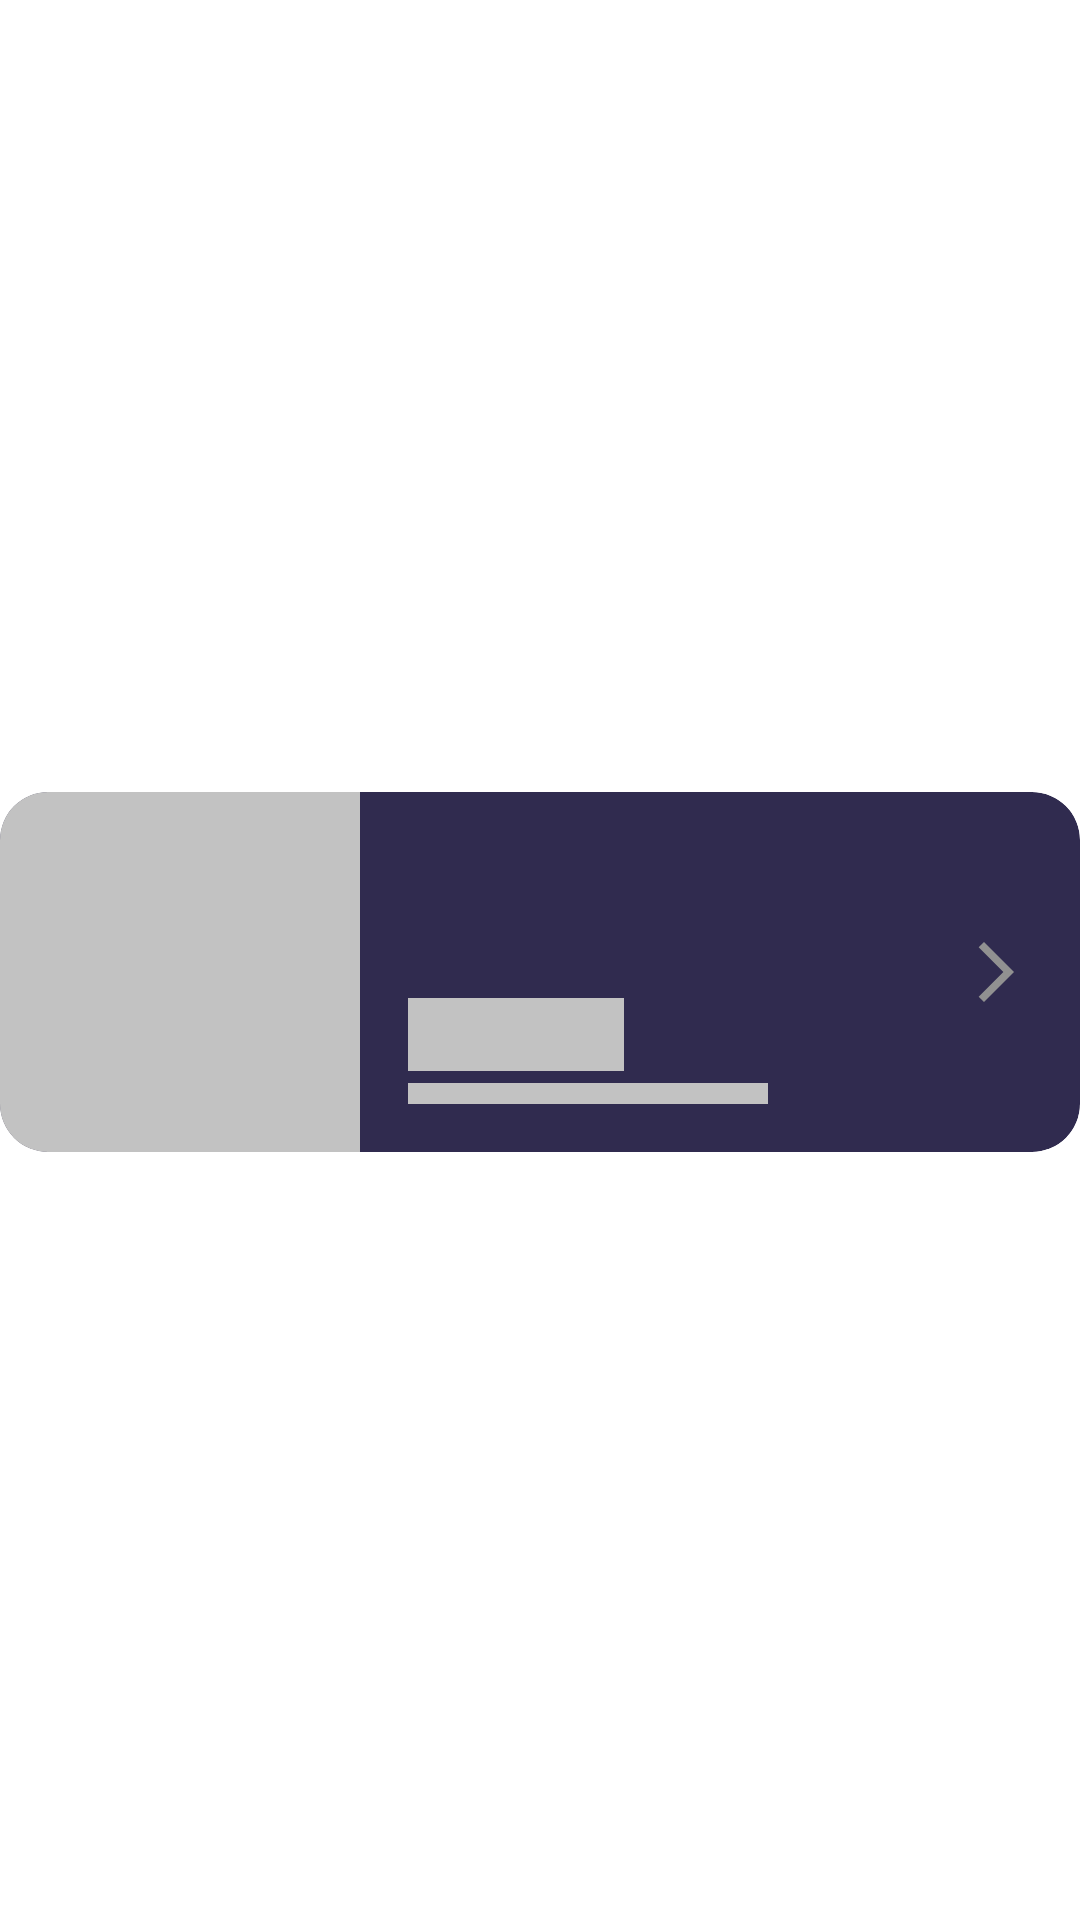

Screen size 1080px x 1920px. Icon name, then its box in pixels as (x1, y1, x2, y2):
right arrow: (979, 942, 1014, 1002)
